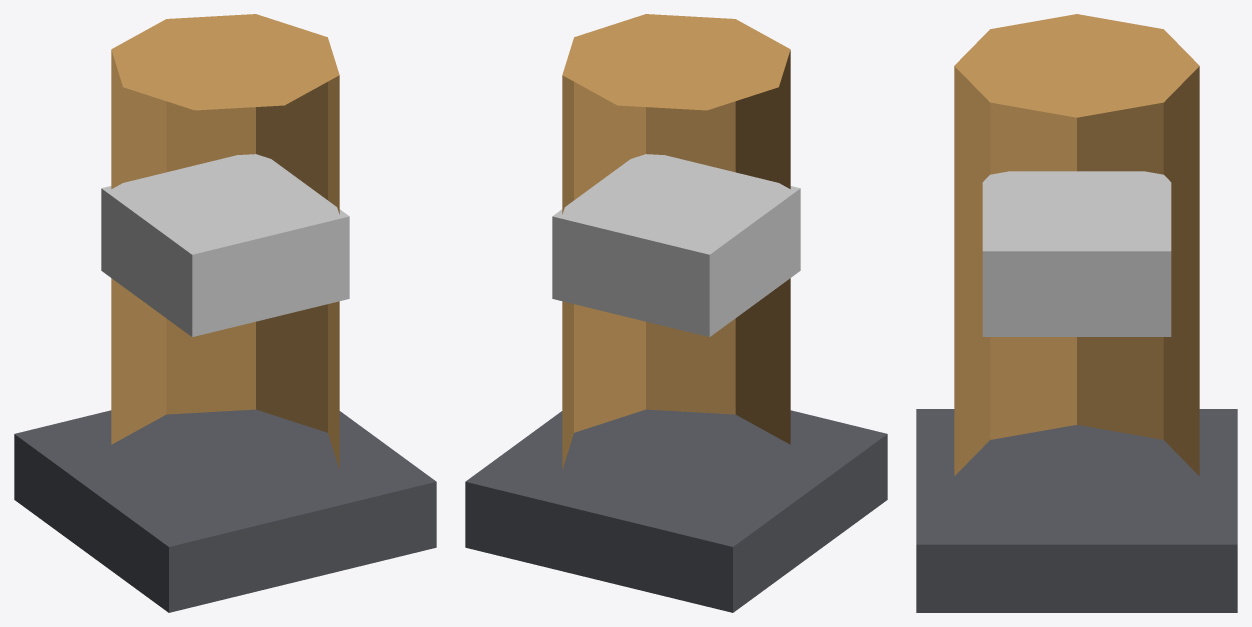
3 renders of one model, left to right at view 1: azimuth 30°, elevation 25°; view 2: azimuth 150°, elevation 25°; view 3: azimuth 270°, elevation 25°, orthographic. The views are drawn at different scales.
Parts seen in each view (by area): view 1: root; view 2: root; view 3: root.
Part boxes in pixels (<box>): root: <box>14,14,436,612</box>; root: <box>465,14,887,612</box>; root: <box>916,14,1237,612</box>.
Size of the model in its own units: 0.34 by 0.56 by 0.34.
